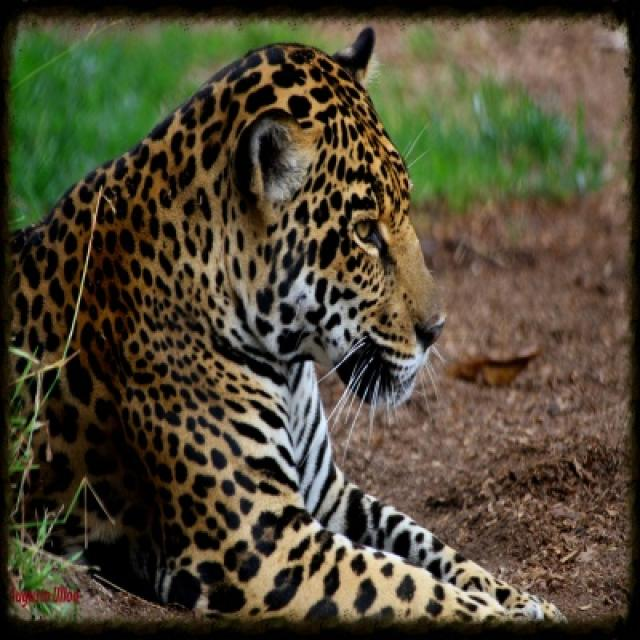Jaguar: (6, 29, 558, 638)
